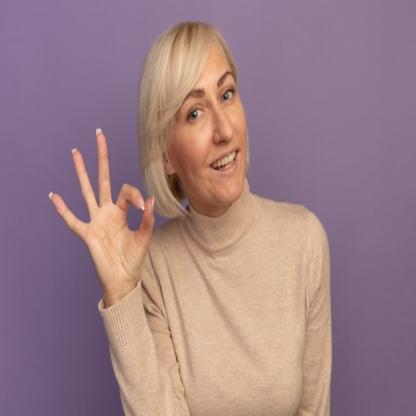ok: (47, 122, 156, 300)
